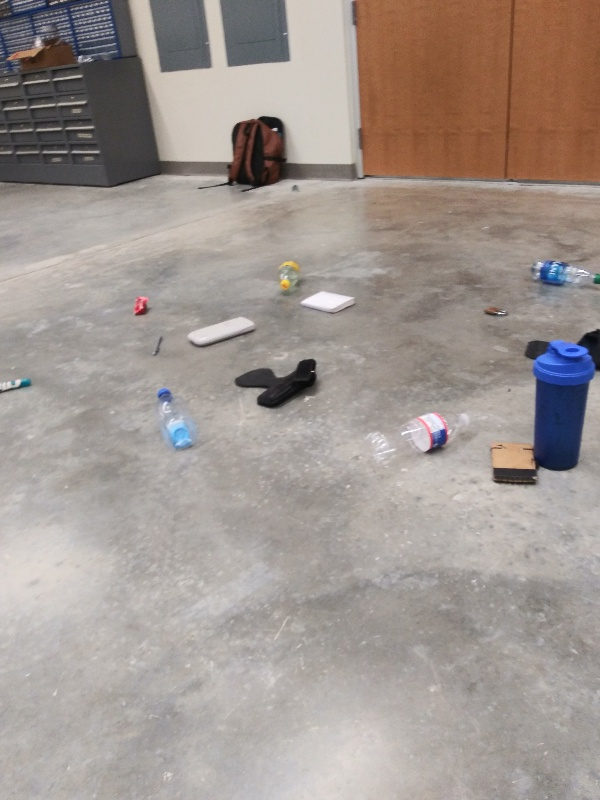bottle: (363, 406, 476, 474), (149, 387, 204, 454), (528, 258, 600, 292), (273, 254, 302, 291)
